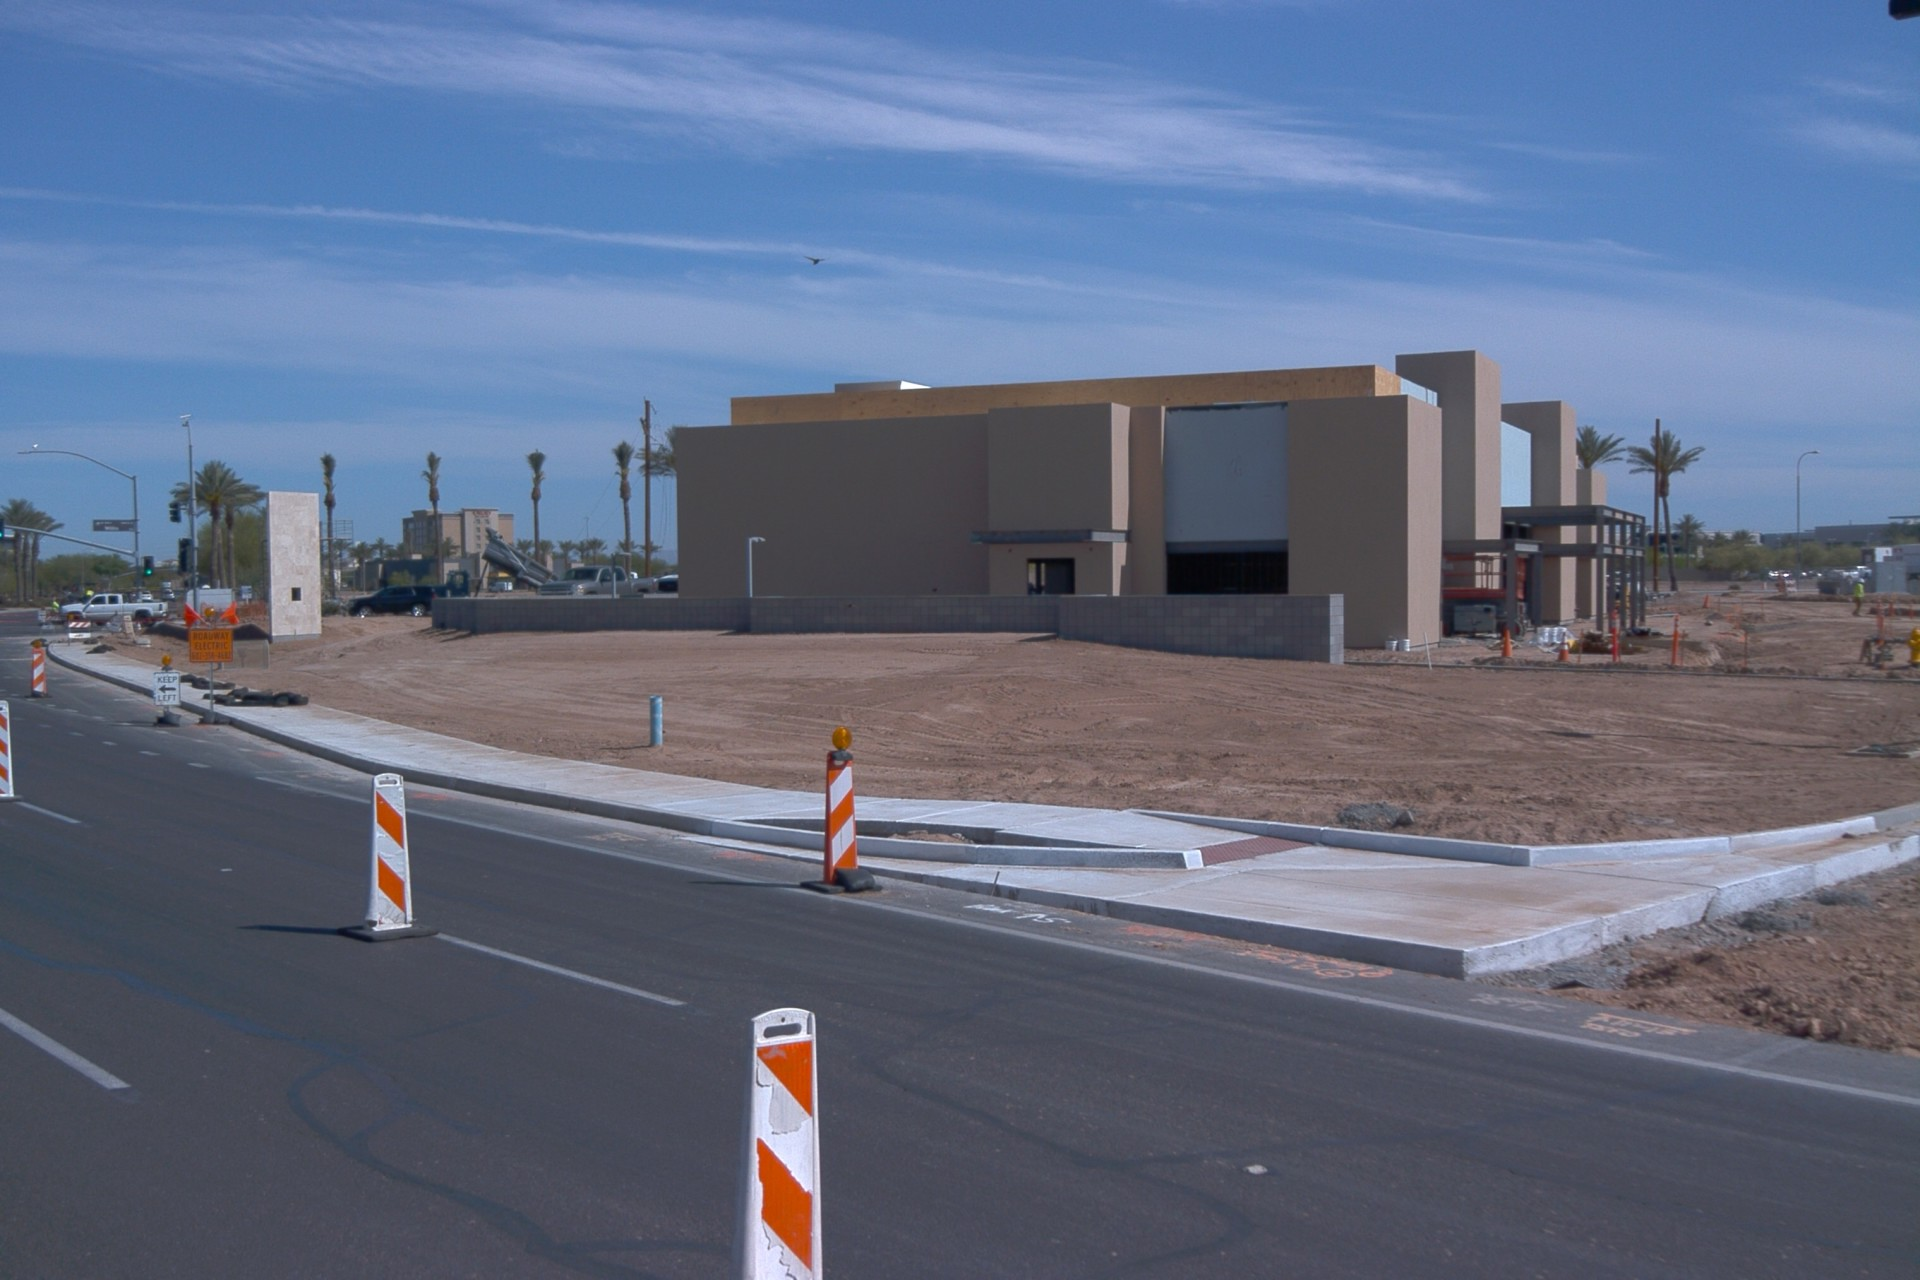TYPE_PEDESTRIAN: (1850, 573, 1871, 616), (55, 596, 64, 613)
TYPE_VEHICLE: (442, 531, 569, 607), (532, 557, 667, 602), (56, 593, 169, 634), (343, 579, 445, 620), (185, 586, 242, 626), (1617, 578, 1661, 611), (647, 565, 687, 599), (63, 582, 95, 604), (492, 578, 516, 591), (142, 589, 155, 602)
